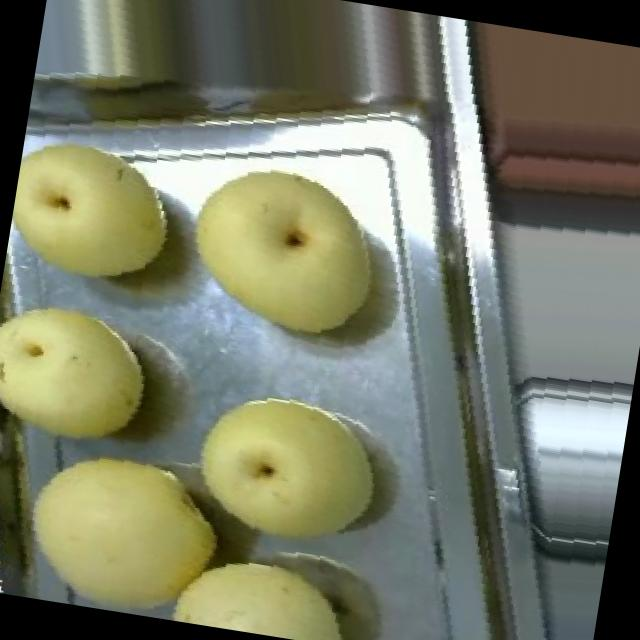Fruit: (160, 132, 410, 368), (0, 407, 257, 629), (156, 358, 411, 580), (413, 15, 640, 243), (2, 110, 198, 310), (0, 274, 180, 478), (135, 519, 395, 640)
